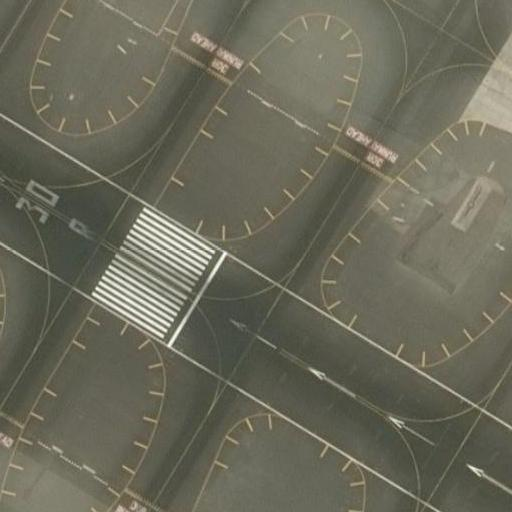Aircraft: (0, 418, 12, 512), (28, 506, 180, 512)
